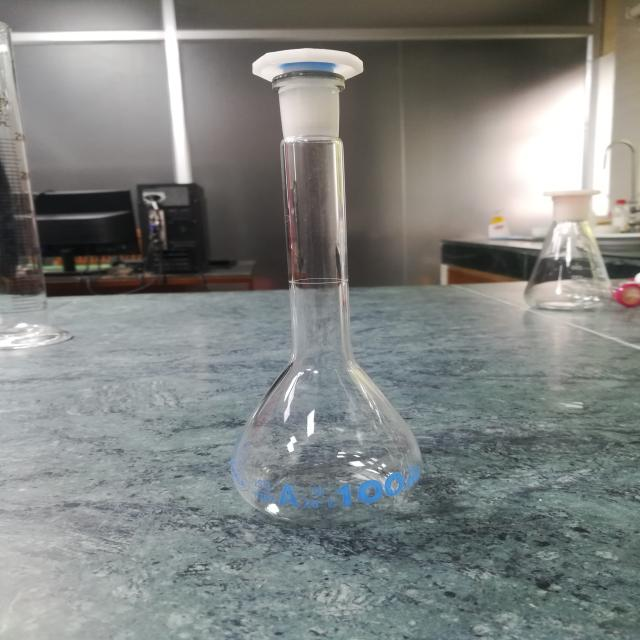Conical_Flask: (506, 152, 612, 325)
Volumetric_Flask: (194, 28, 459, 528)
